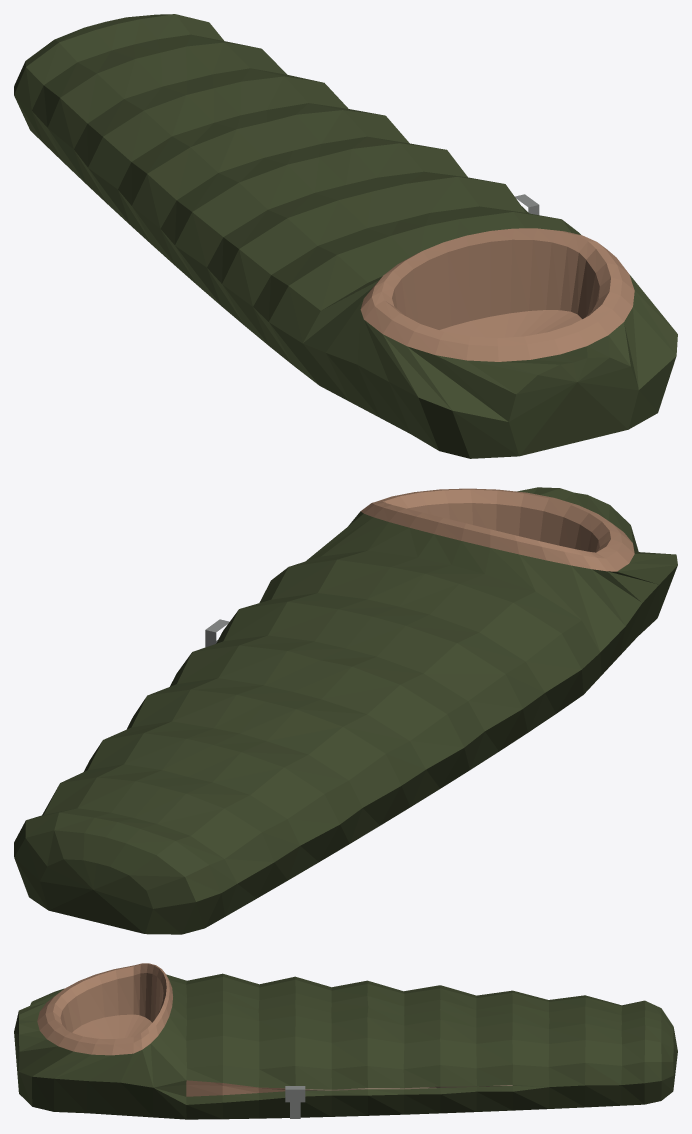
Rendered from sleeping-bag-730d7d.glb.
3 renders of one model, top to bottom at view 1: azimuth 30°, elevation 25°; view 2: azimuth 150°, elevation 25°; view 3: azimuth 270°, elevation 25°, orthographic. The views are drawn at different scales.
Parts seen in each view (by area): view 1: bag; view 2: bag; view 3: bag.
Part boxes in pixels (box(x1,y1,x2,y2)): bag: box(14, 14, 677, 458); bag: box(14, 487, 677, 934); bag: box(14, 963, 677, 1119).
Size of the model in its own units: 0.7554 by 0.293 by 2.
